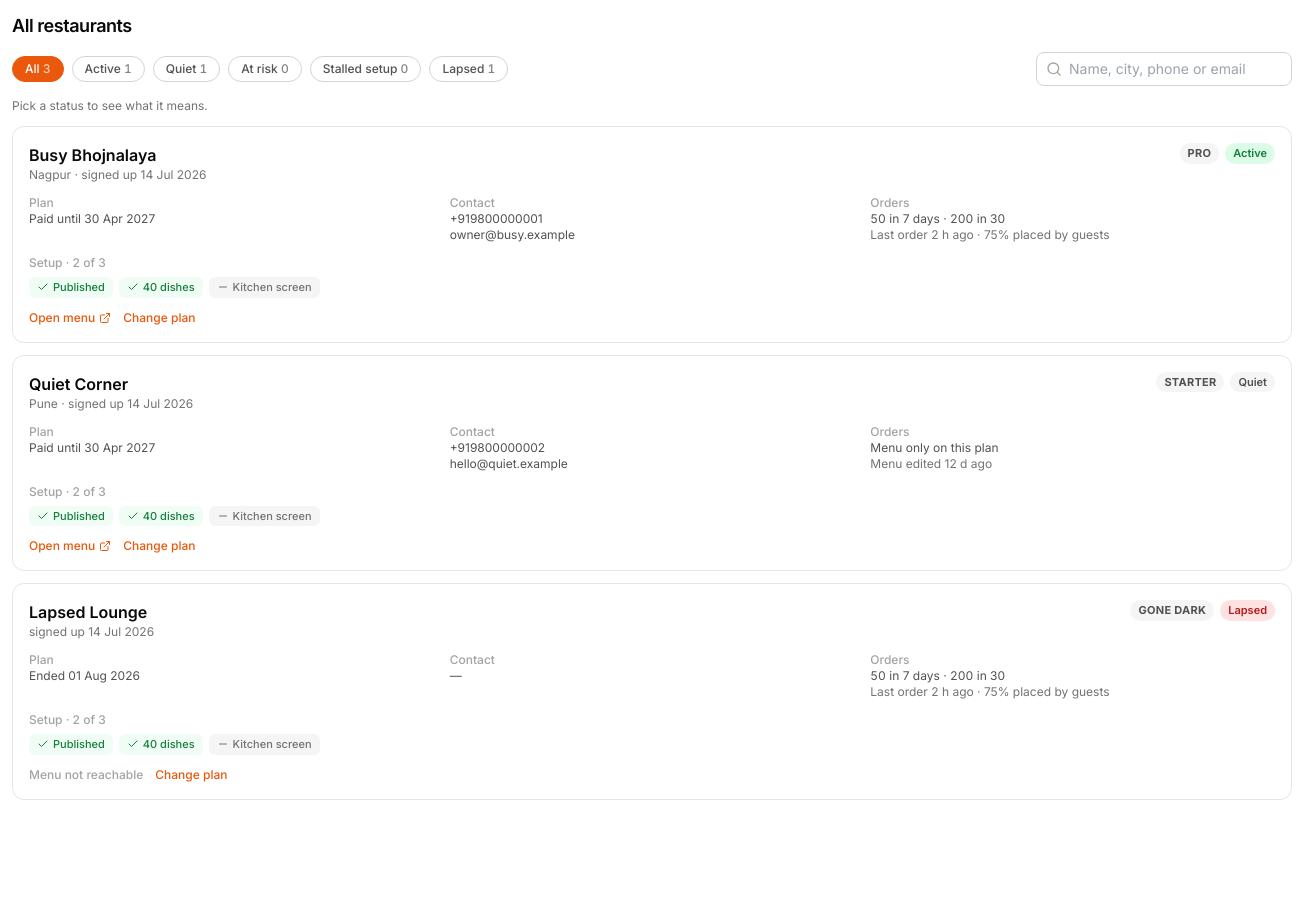
Test case: RestaurantActivityList › says so when the filter and the search leave nothing
Click the button "Stalled setup 0".
click(366, 69)  # box [310,56,421,82]
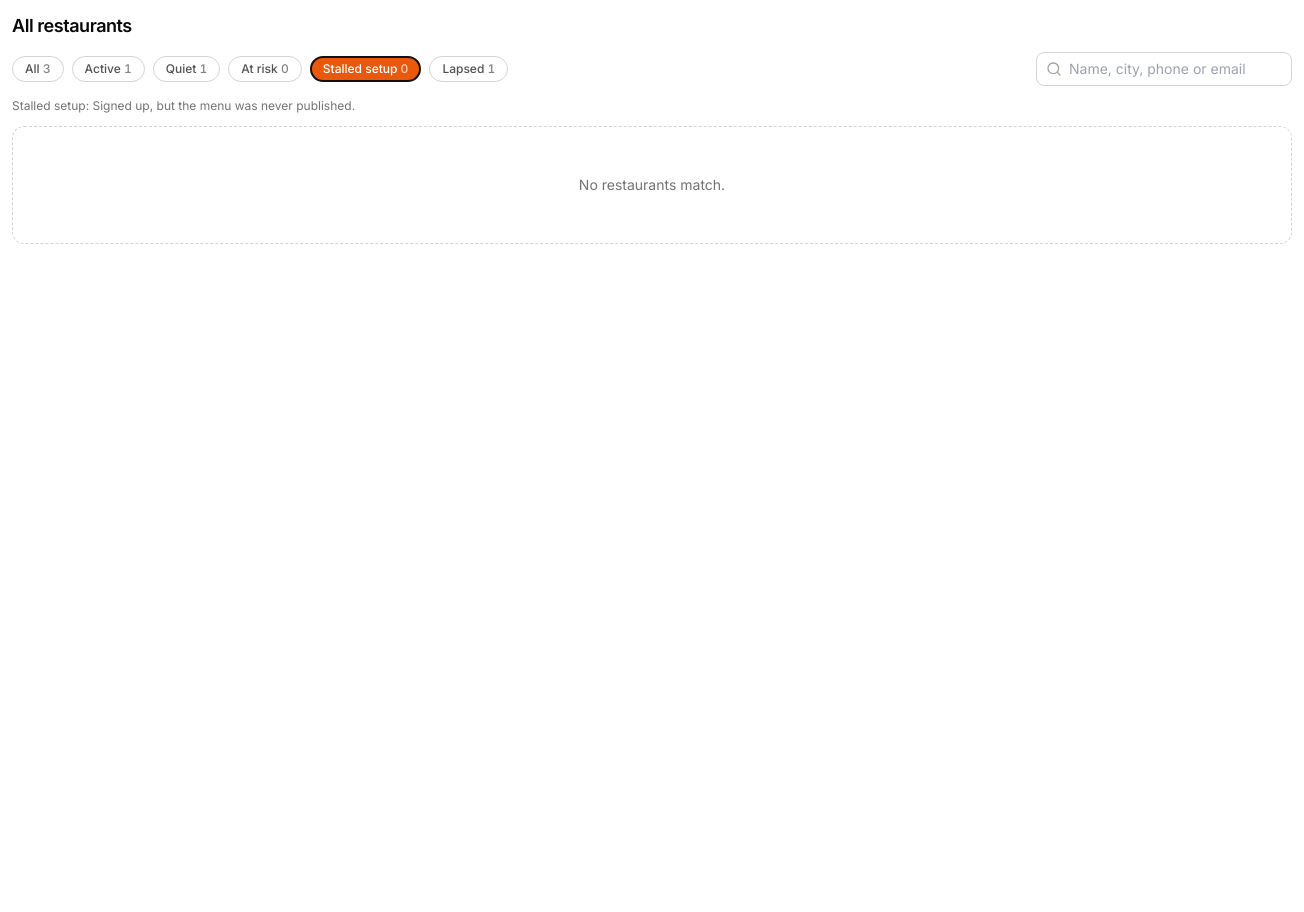
Result: the text "No restaurants match." is shown at [12,126,1292,244]
